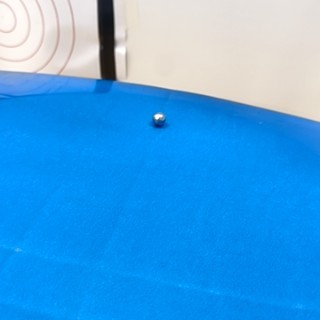ironball: (146, 102, 174, 130)
